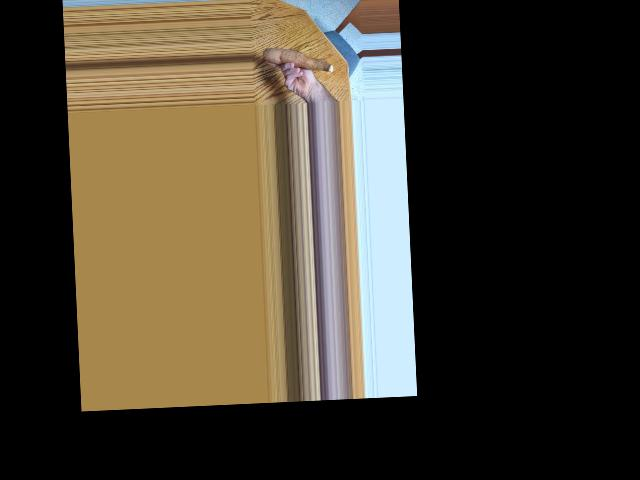sweet_potato: (262, 44, 334, 77)
